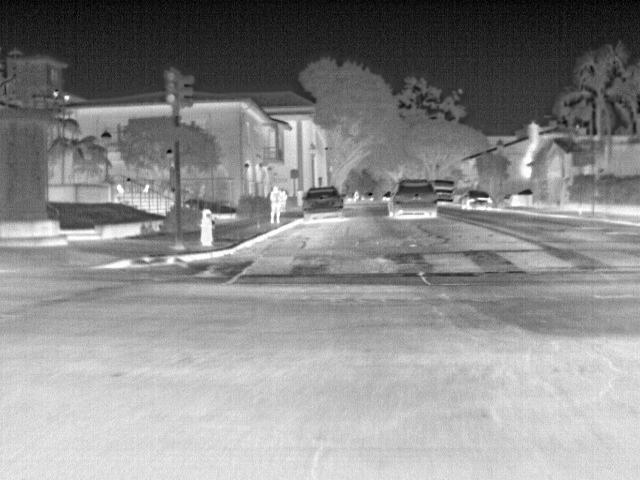car: (389, 179, 438, 220), (299, 185, 344, 219), (460, 188, 496, 211), (434, 179, 456, 203), (364, 190, 378, 204), (381, 190, 395, 202)
person: (269, 183, 285, 223), (278, 189, 290, 214), (115, 182, 128, 194)
